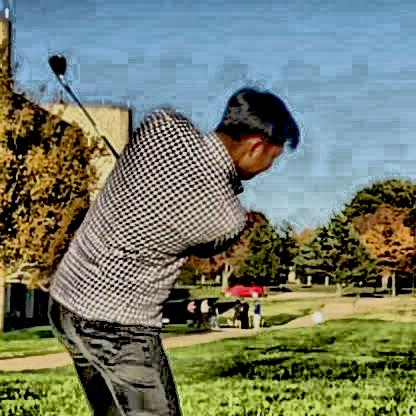golfball: (308, 307, 320, 321)
